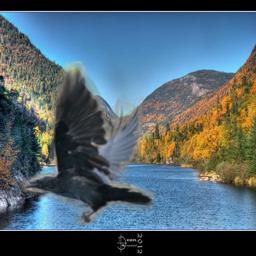Crow: (21, 61, 155, 225)
